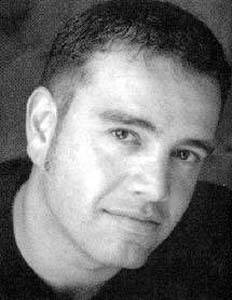bad: (64, 81, 218, 236)
